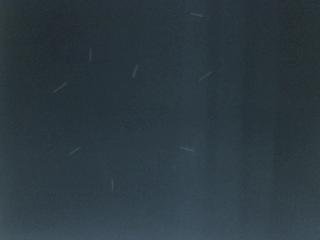scratch: (190, 63, 219, 90), (46, 77, 75, 99), (172, 137, 198, 161), (125, 57, 146, 85), (62, 141, 85, 162), (81, 43, 100, 67), (184, 6, 209, 24), (105, 173, 120, 197)
